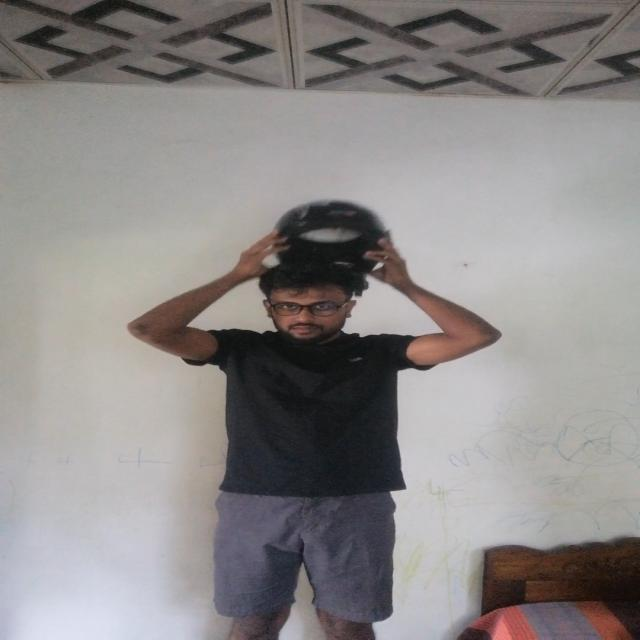Person: (127, 249, 458, 640)
